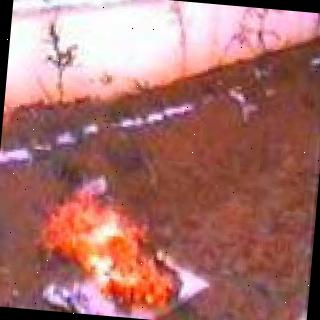fire: (32, 181, 197, 320)
